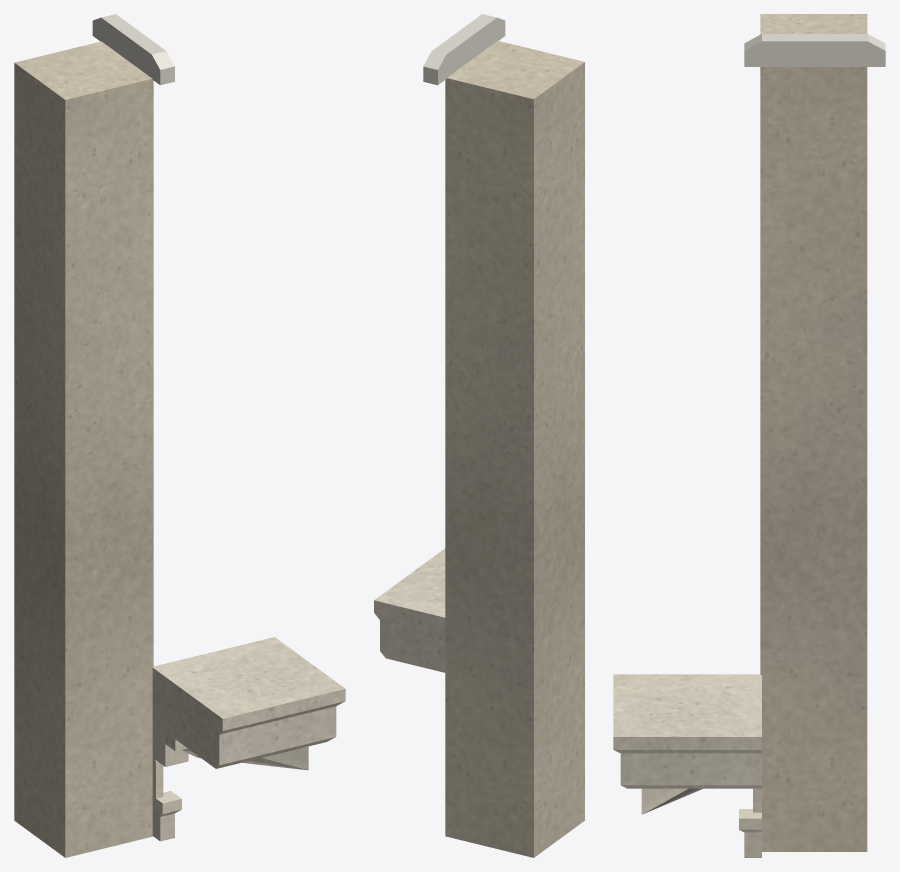
File: corner_pv_attic.glb
The picture shows the model from 3 angles, left to right: view 1: azimuth 30°, elevation 25°; view 2: azimuth 150°, elevation 25°; view 3: azimuth 270°, elevation 25°; orthographic projection. The views are drawn at different scales.
Parts seen in each view (by area): view 1: corner_pv_attic_ashlar, corner_pv_attic_trim, corner_pv_attic_coping; view 2: corner_pv_attic_ashlar, corner_pv_attic_trim, corner_pv_attic_coping; view 3: corner_pv_attic_ashlar, corner_pv_attic_trim, corner_pv_attic_coping.
Part boxes in pixels (bbox=[...]): corner_pv_attic_ashlar: bbox=[14, 41, 153, 857]; corner_pv_attic_trim: bbox=[152, 637, 345, 841]; corner_pv_attic_coping: bbox=[92, 14, 174, 85]; corner_pv_attic_ashlar: bbox=[445, 40, 584, 857]; corner_pv_attic_trim: bbox=[374, 548, 445, 672]; corner_pv_attic_coping: bbox=[423, 14, 505, 85]; corner_pv_attic_ashlar: bbox=[760, 14, 867, 851]; corner_pv_attic_trim: bbox=[613, 674, 761, 857]; corner_pv_attic_coping: bbox=[744, 34, 885, 66].
Size of the model in its own units: 0.718 by 2.55 by 0.77.
3 materials, 2 textured.
